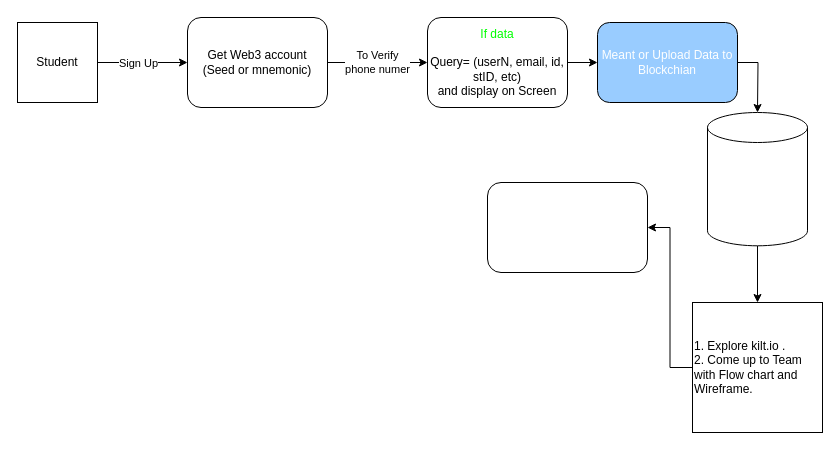
The diagram is 840 pixels wide and 450 high, and some of its shapes have lost their labels. Here are the shapes that lost their labels. From the top down, the centre of each, then its label:
At point 757,179: "Blockchain Ex: (kilt.io)".
At point 567,227: "Start design UIs to fit with Blockchain function".
